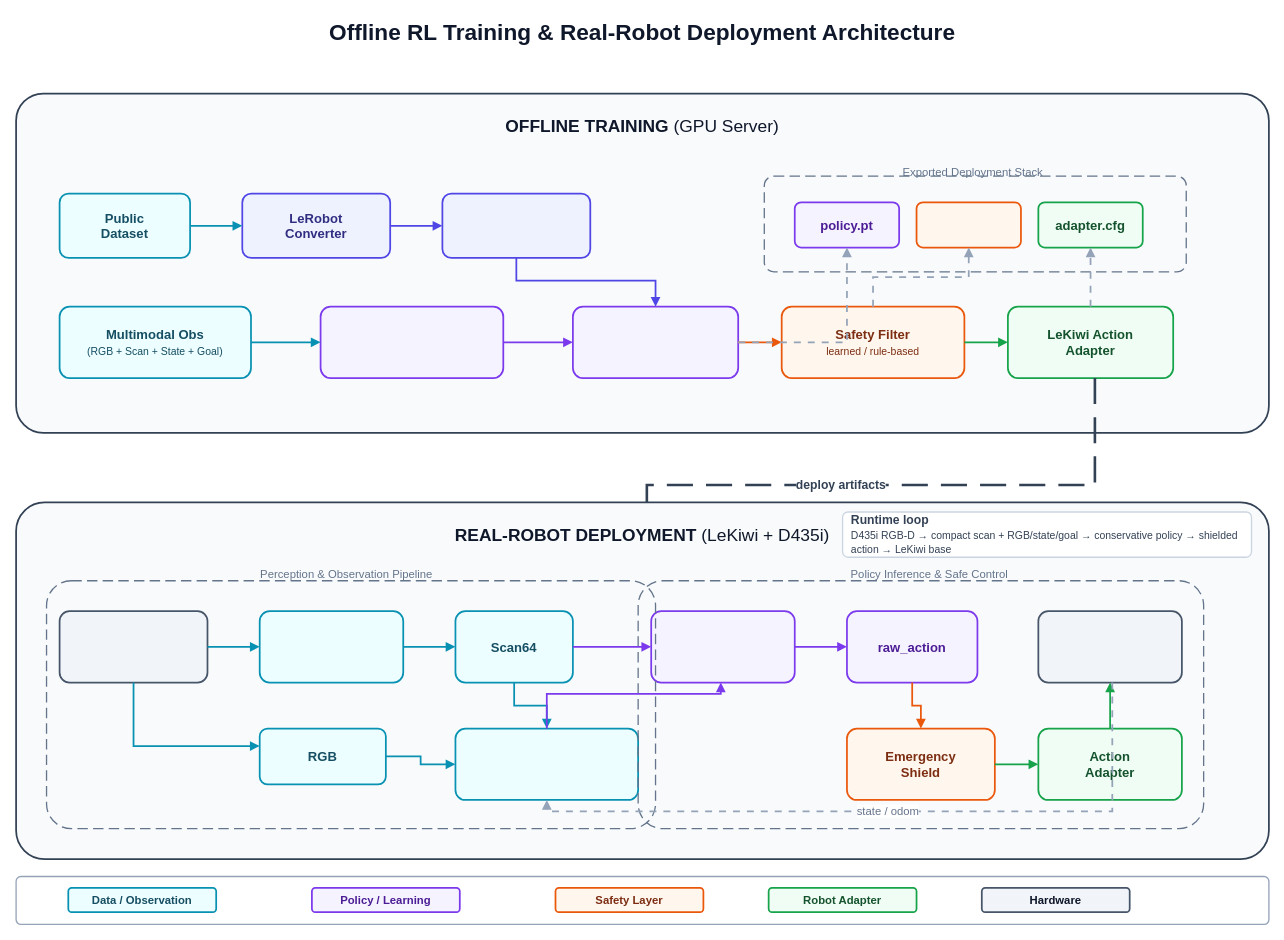
This 1284x940 diagram has some shape labels left out. The shapes that lost their labels are listed below. From the top down, each one's centre as x and y in pixels, then its label:
At point 516,225: "Reward Relabeling".
At point 968,224: "shield.yaml".
At point 411,341: "TD3+BC / IQL offline policy learning".
At point 655,341: "Conservative Policy".
At point 133,646: "Intel RealSense D435i".
At point 331,646: "depth_to_scan".
At point 722,646: "RL Policy".
At point 1109,646: "LeKiwi Base".
At point 546,763: "Multimodal Obs Construction".
